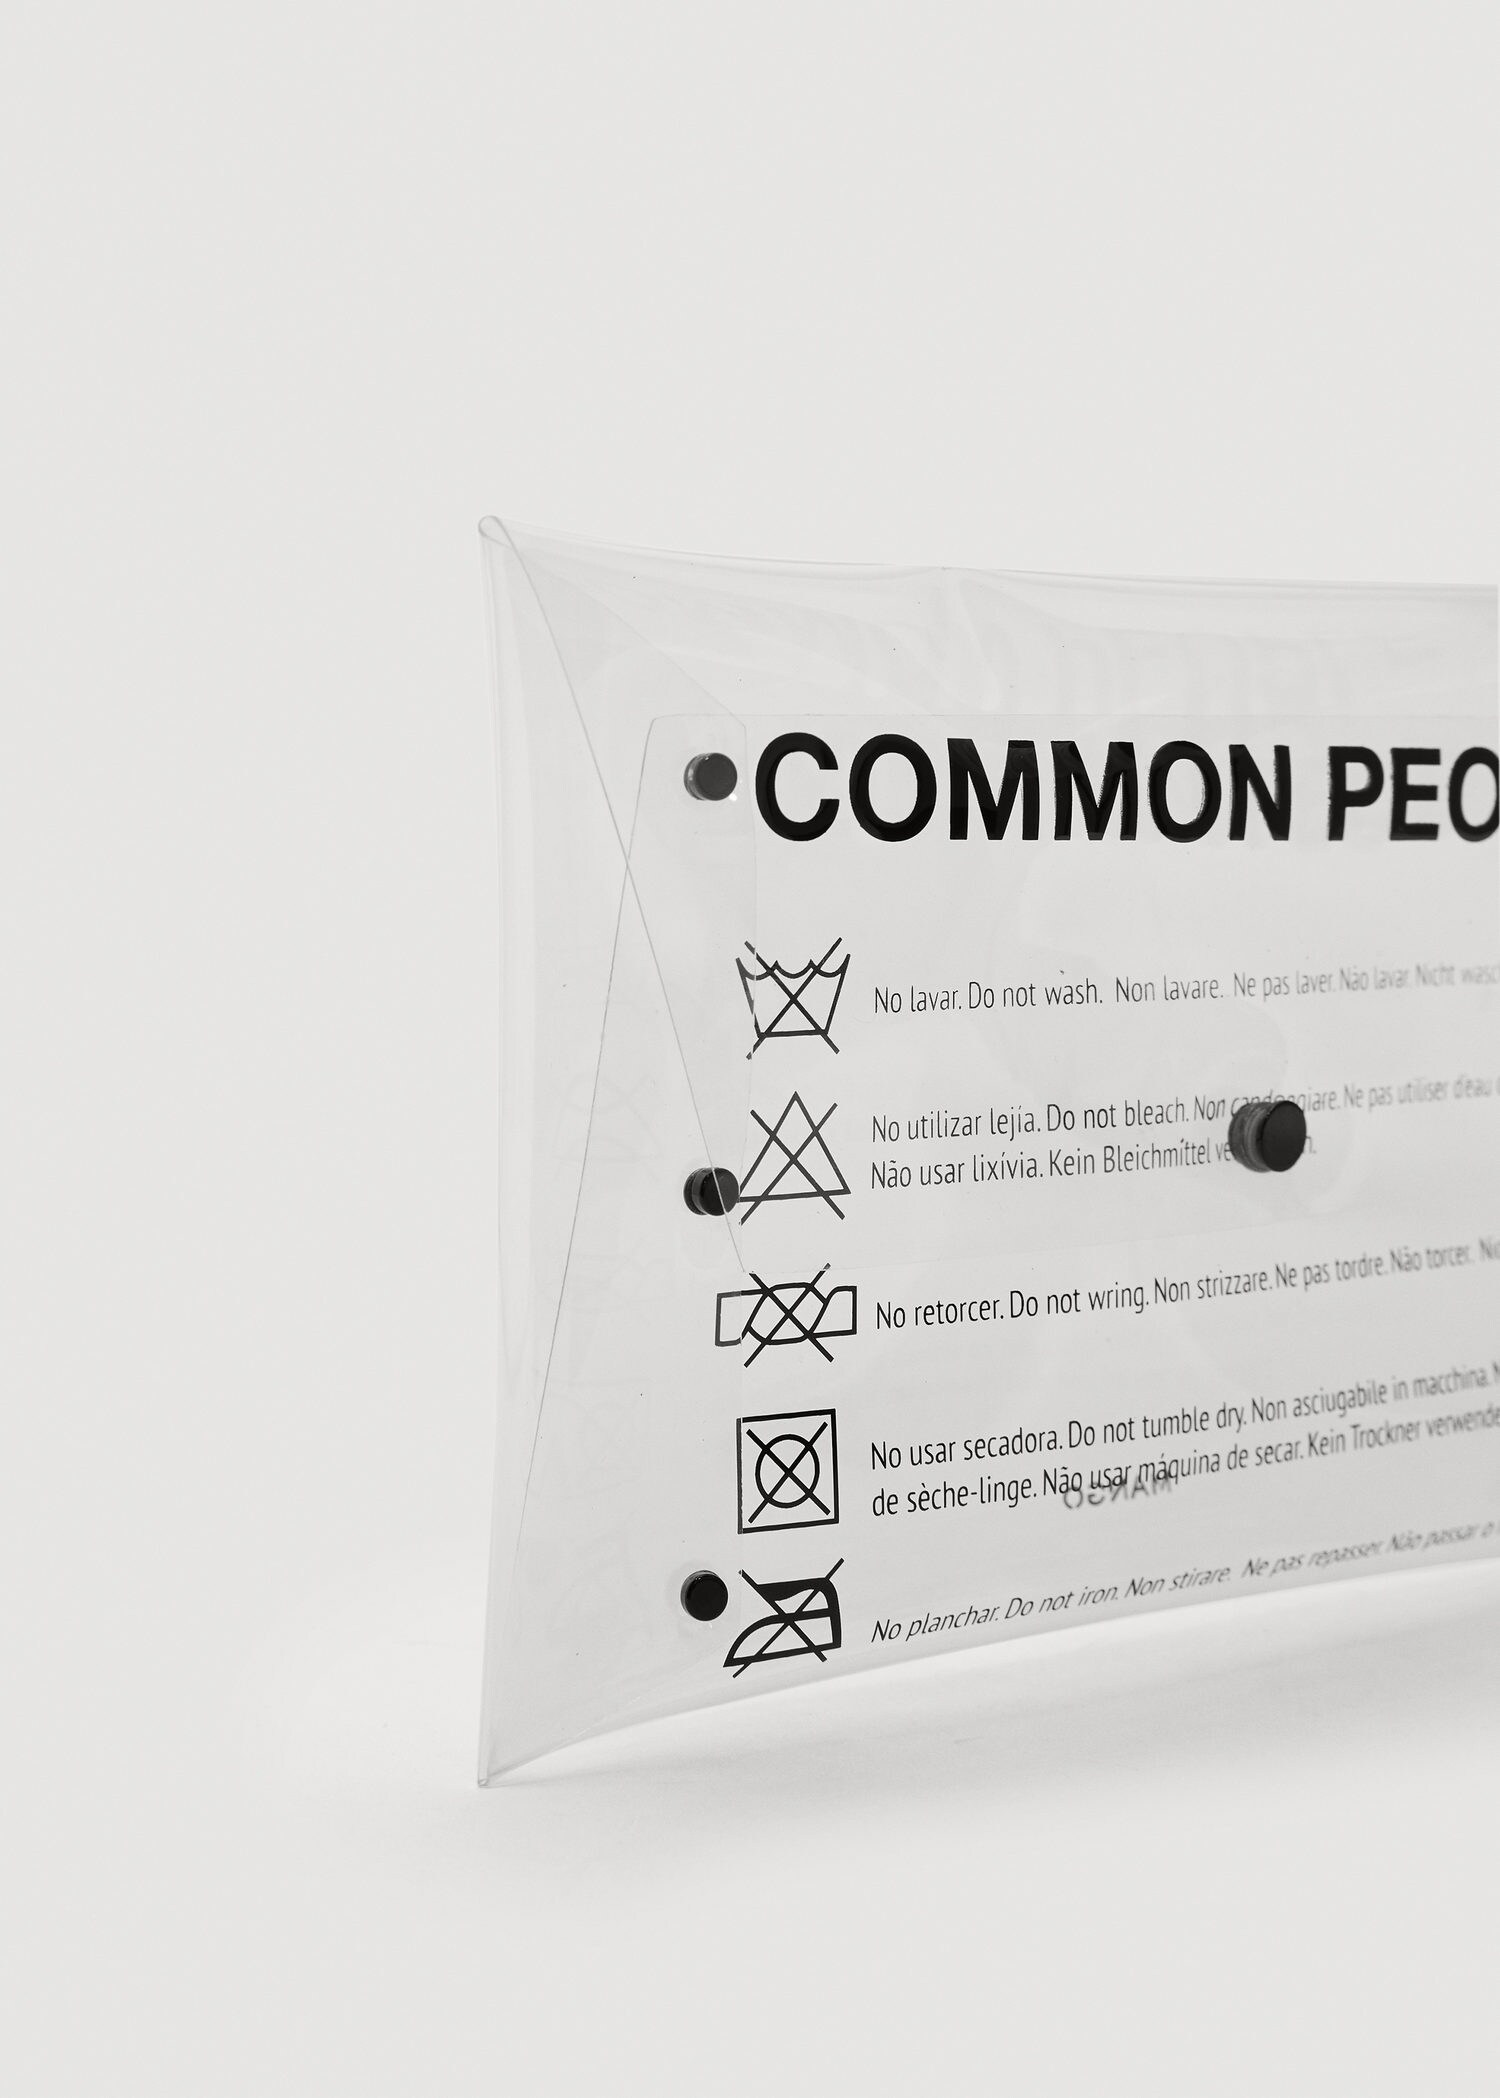do_not_bleach: (737, 1092, 856, 1227)
do_not_iron: (727, 1569, 847, 1678)
do_not_wash: (726, 936, 864, 1058)
